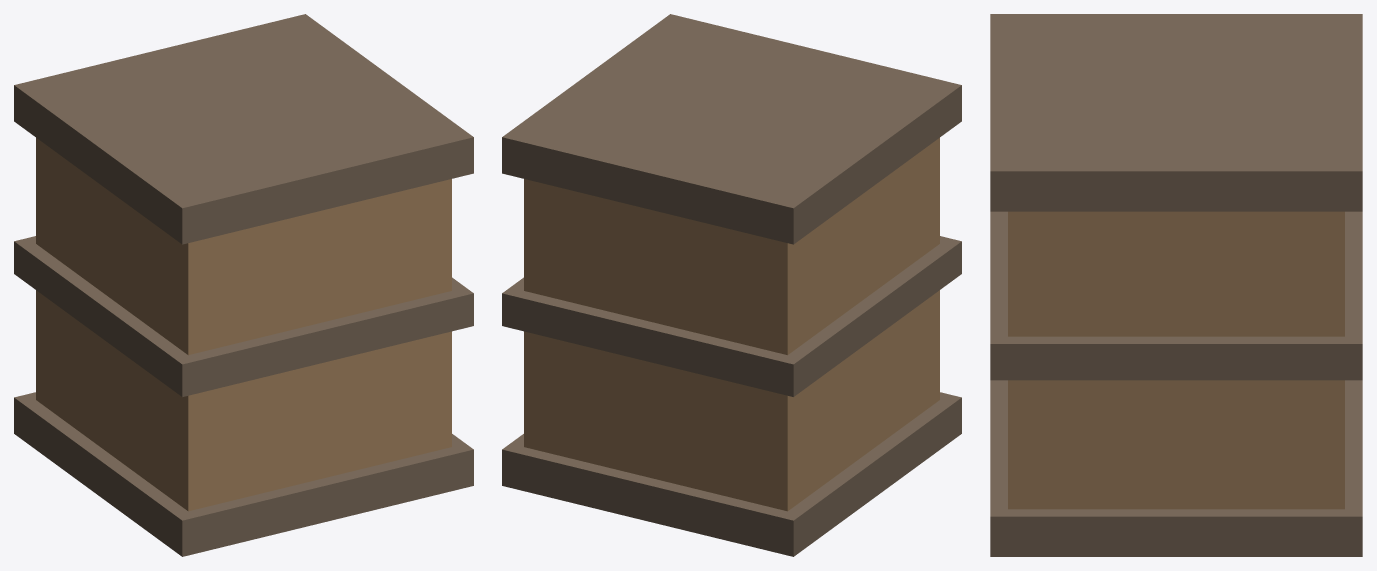
File: barrel.gltf
The picture shows the model from 3 angles, left to right: view 1: azimuth 30°, elevation 25°; view 2: azimuth 150°, elevation 25°; view 3: azimuth 270°, elevation 25°; orthographic projection. The views are drawn at different scales.
Parts seen in each view (by area): view 1: barrel; view 2: barrel; view 3: barrel.
Boxes of the visible parts, left/top/right/bottom form: barrel: left=14, top=14, right=473, bottom=556; barrel: left=502, top=14, right=961, bottom=556; barrel: left=990, top=14, right=1362, bottom=556.
Bounding box in the file's own units: 0.84 × 0.96 × 0.84.
